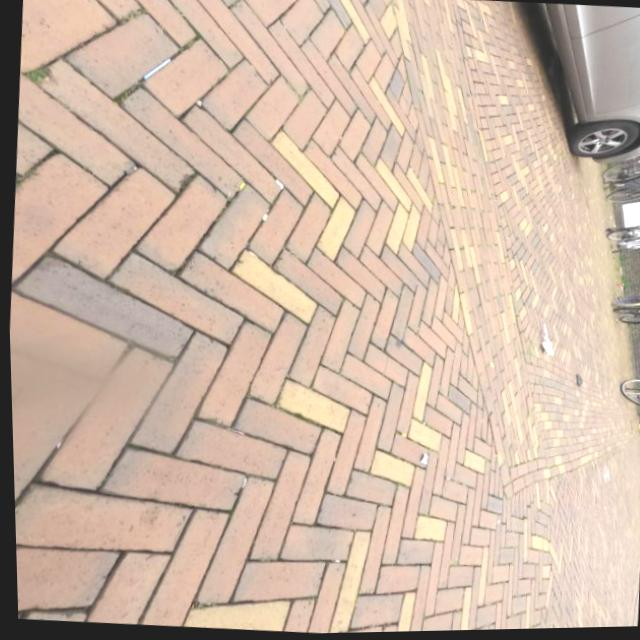Cup: (537, 343, 551, 358)
